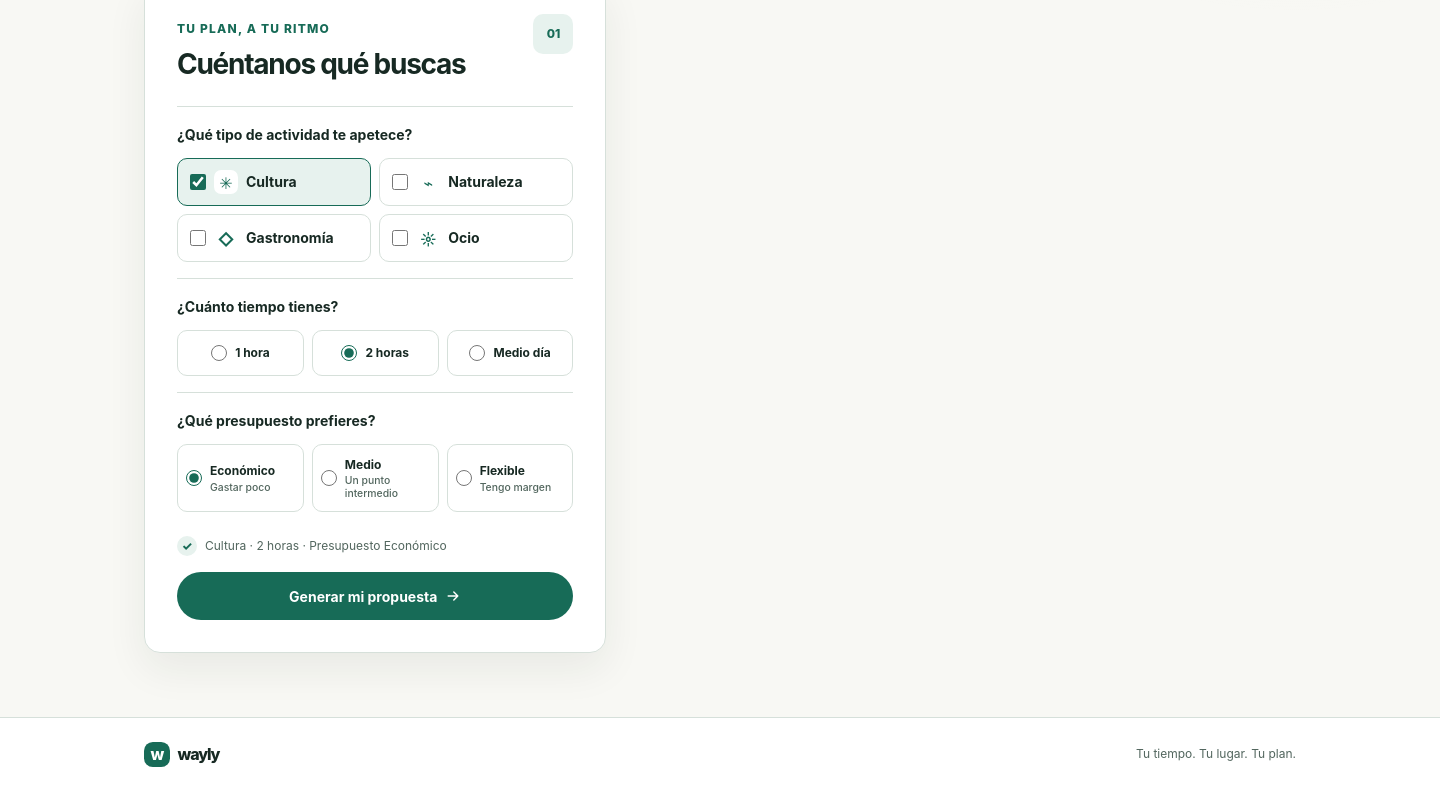
DiscoverPageComponent › returns to preferences without losing them and regenerates the proposal
This screenshot has width=1440, height=790.
(page scrolled)
Click the button "Generar mi propuesta".
click(375, 596)  # box [177, 572, 574, 620]
(page scrolled)
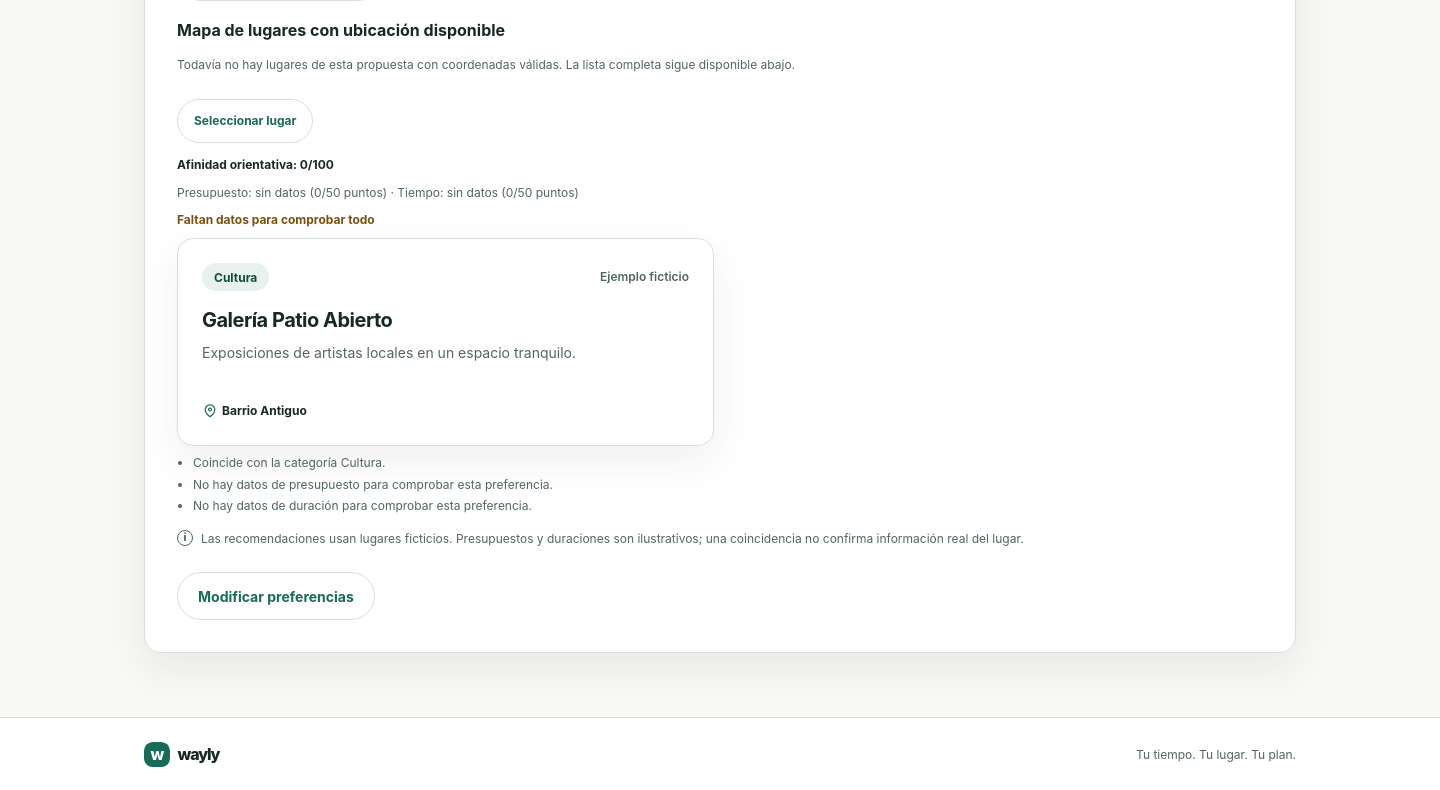
Click the button with class "button--secondary" showing "Modificar preferencias".
click(276, 596)  # box [177, 572, 375, 620]
(page scrolled)
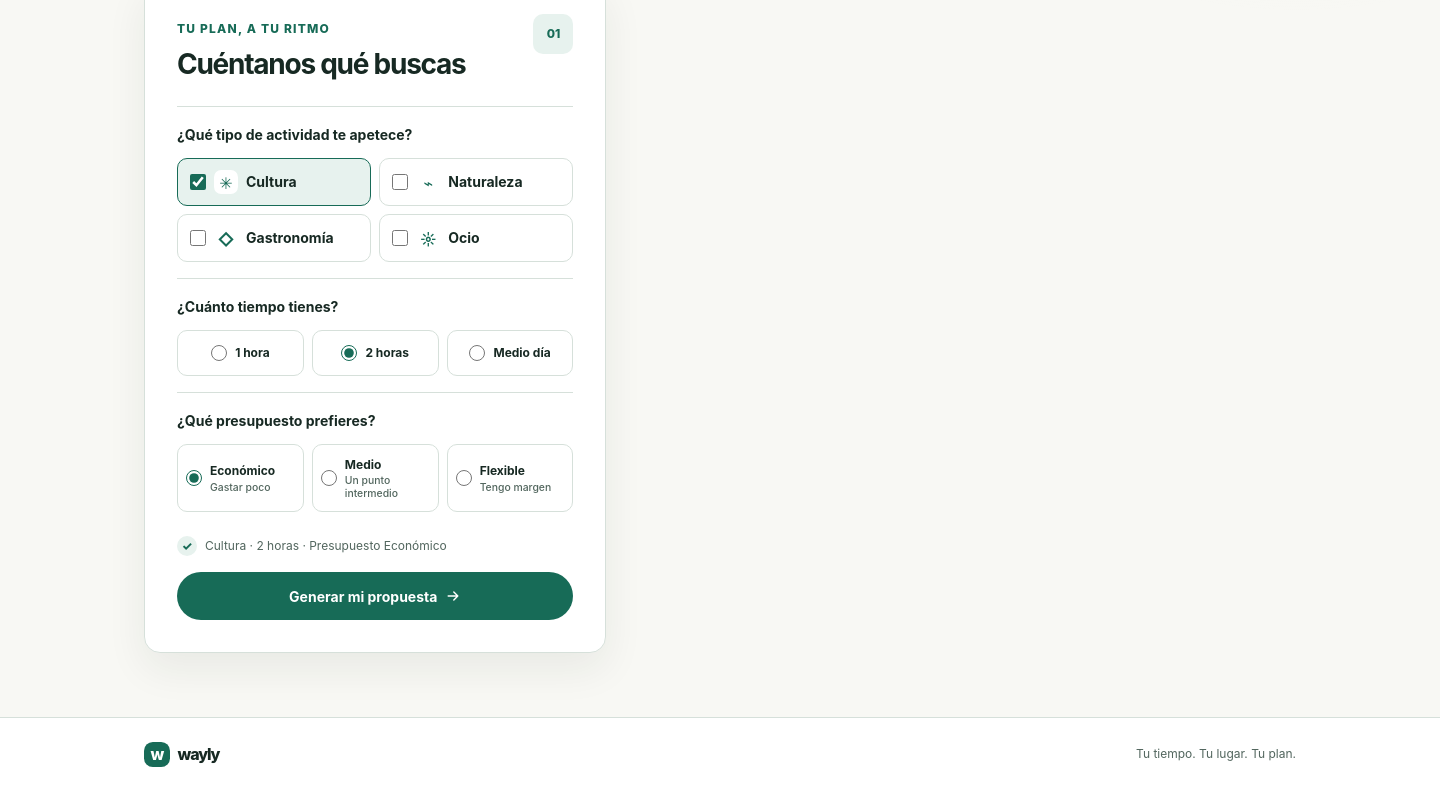
Click the checkbox named "activityType".
click(198, 238)  # box [190, 230, 206, 246]
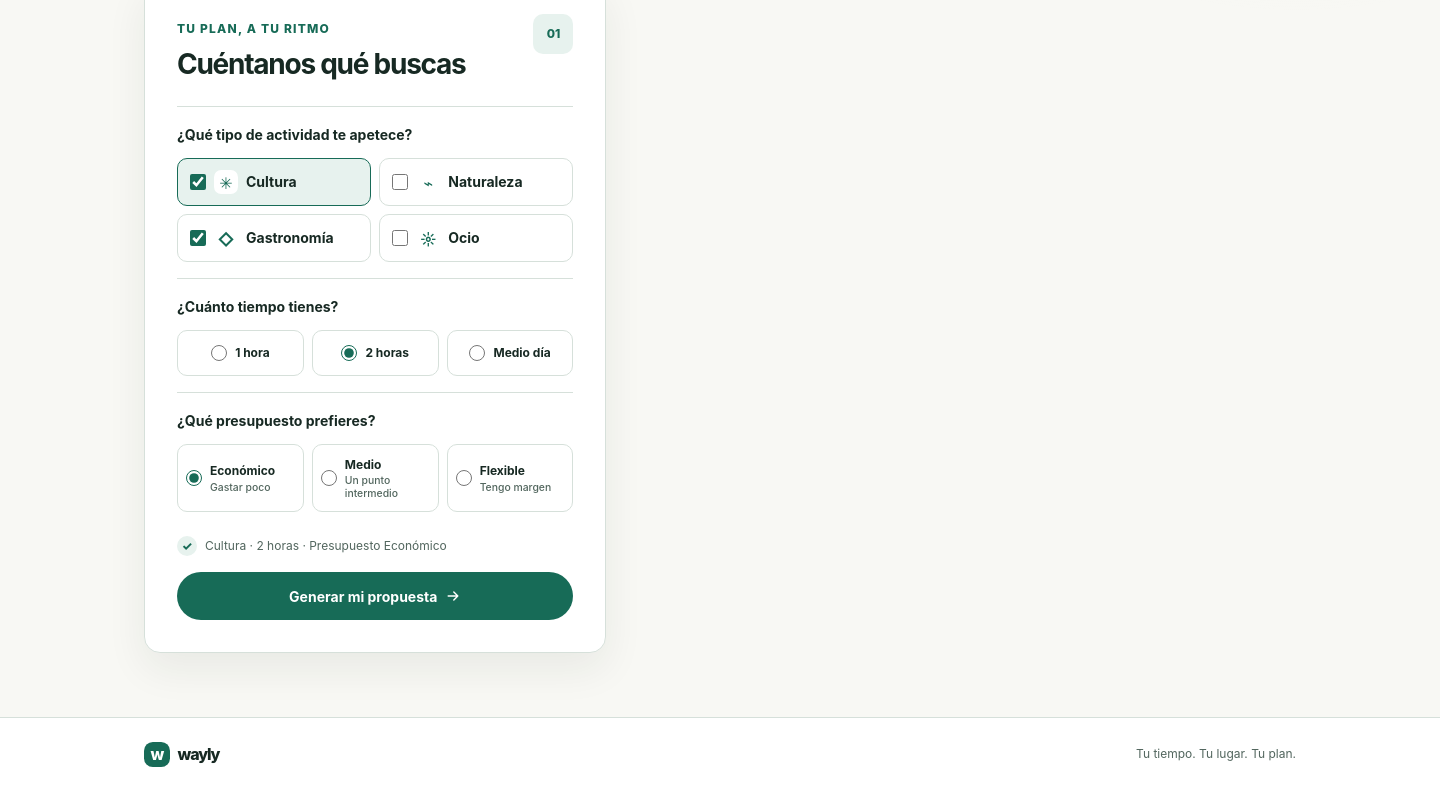
Click the checkbox named "activityType".
click(198, 182)  # box [190, 174, 206, 190]
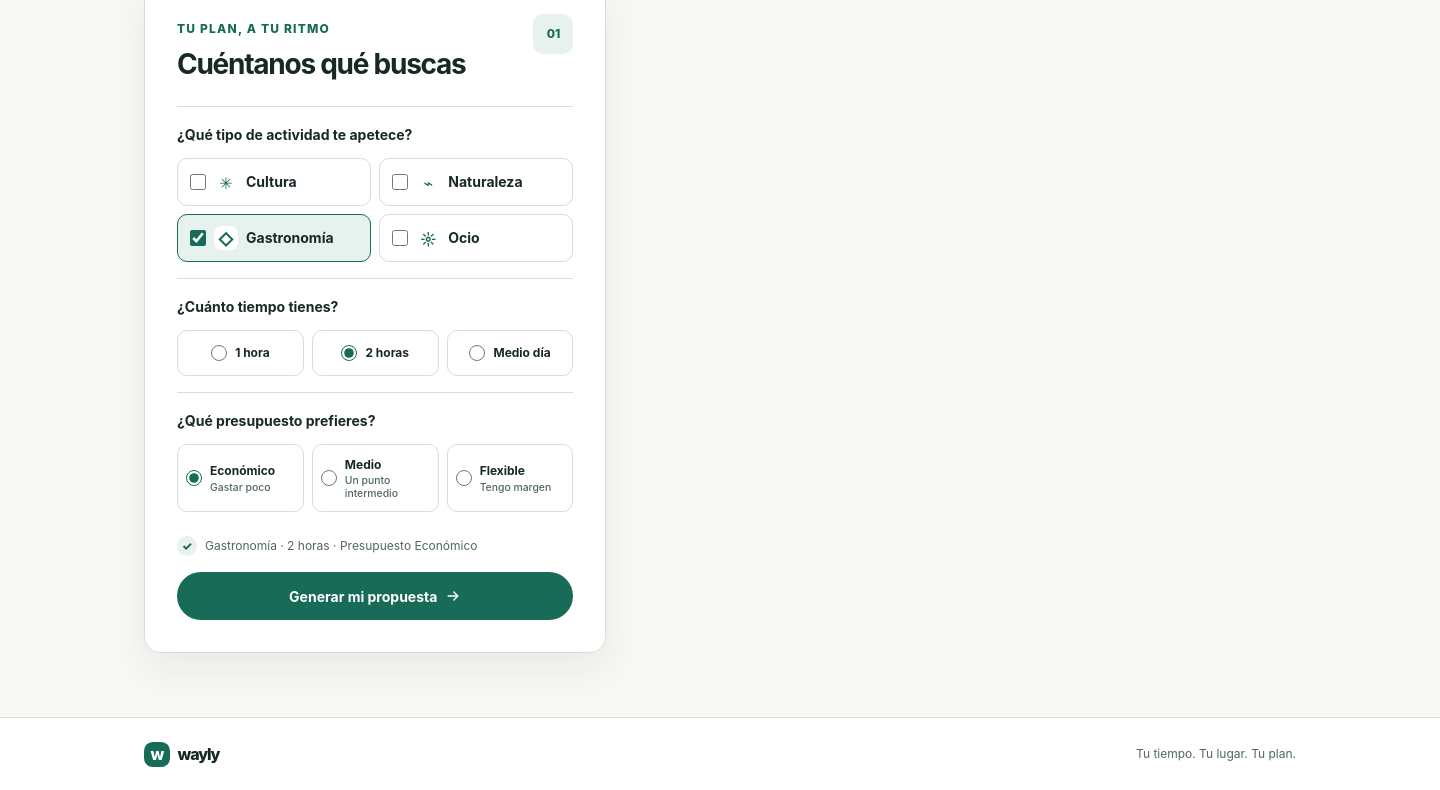
Check: the button "Generar mi propuesta" is shown
Click the button "Generar mi propuesta".
click(375, 596)  # box [177, 572, 574, 620]
(page scrolled)
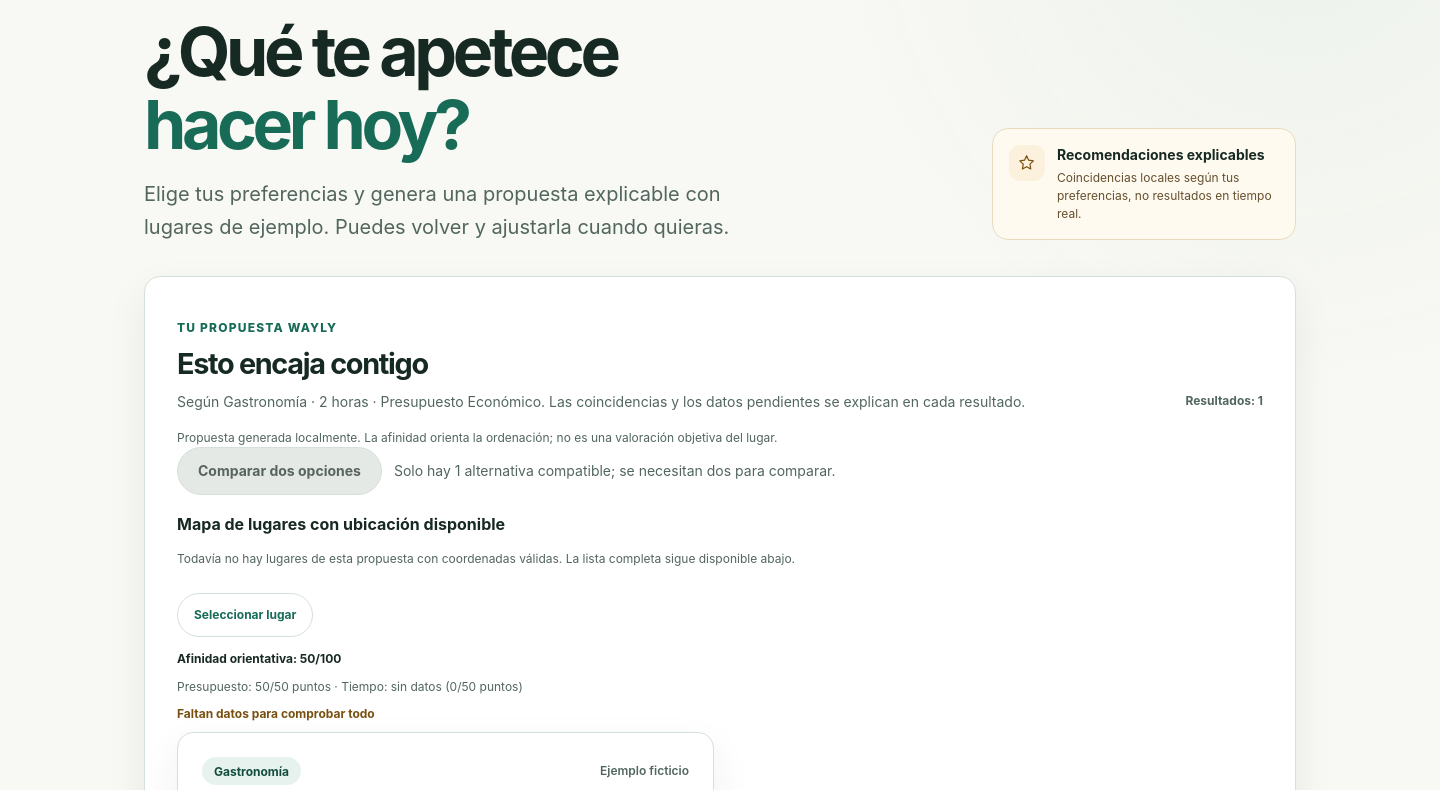
Check: the text named "Preferencias utilizadas" shows "Gastronomía · 2 horas · Presupuesto Económico", box [177, 393, 1025, 410]
